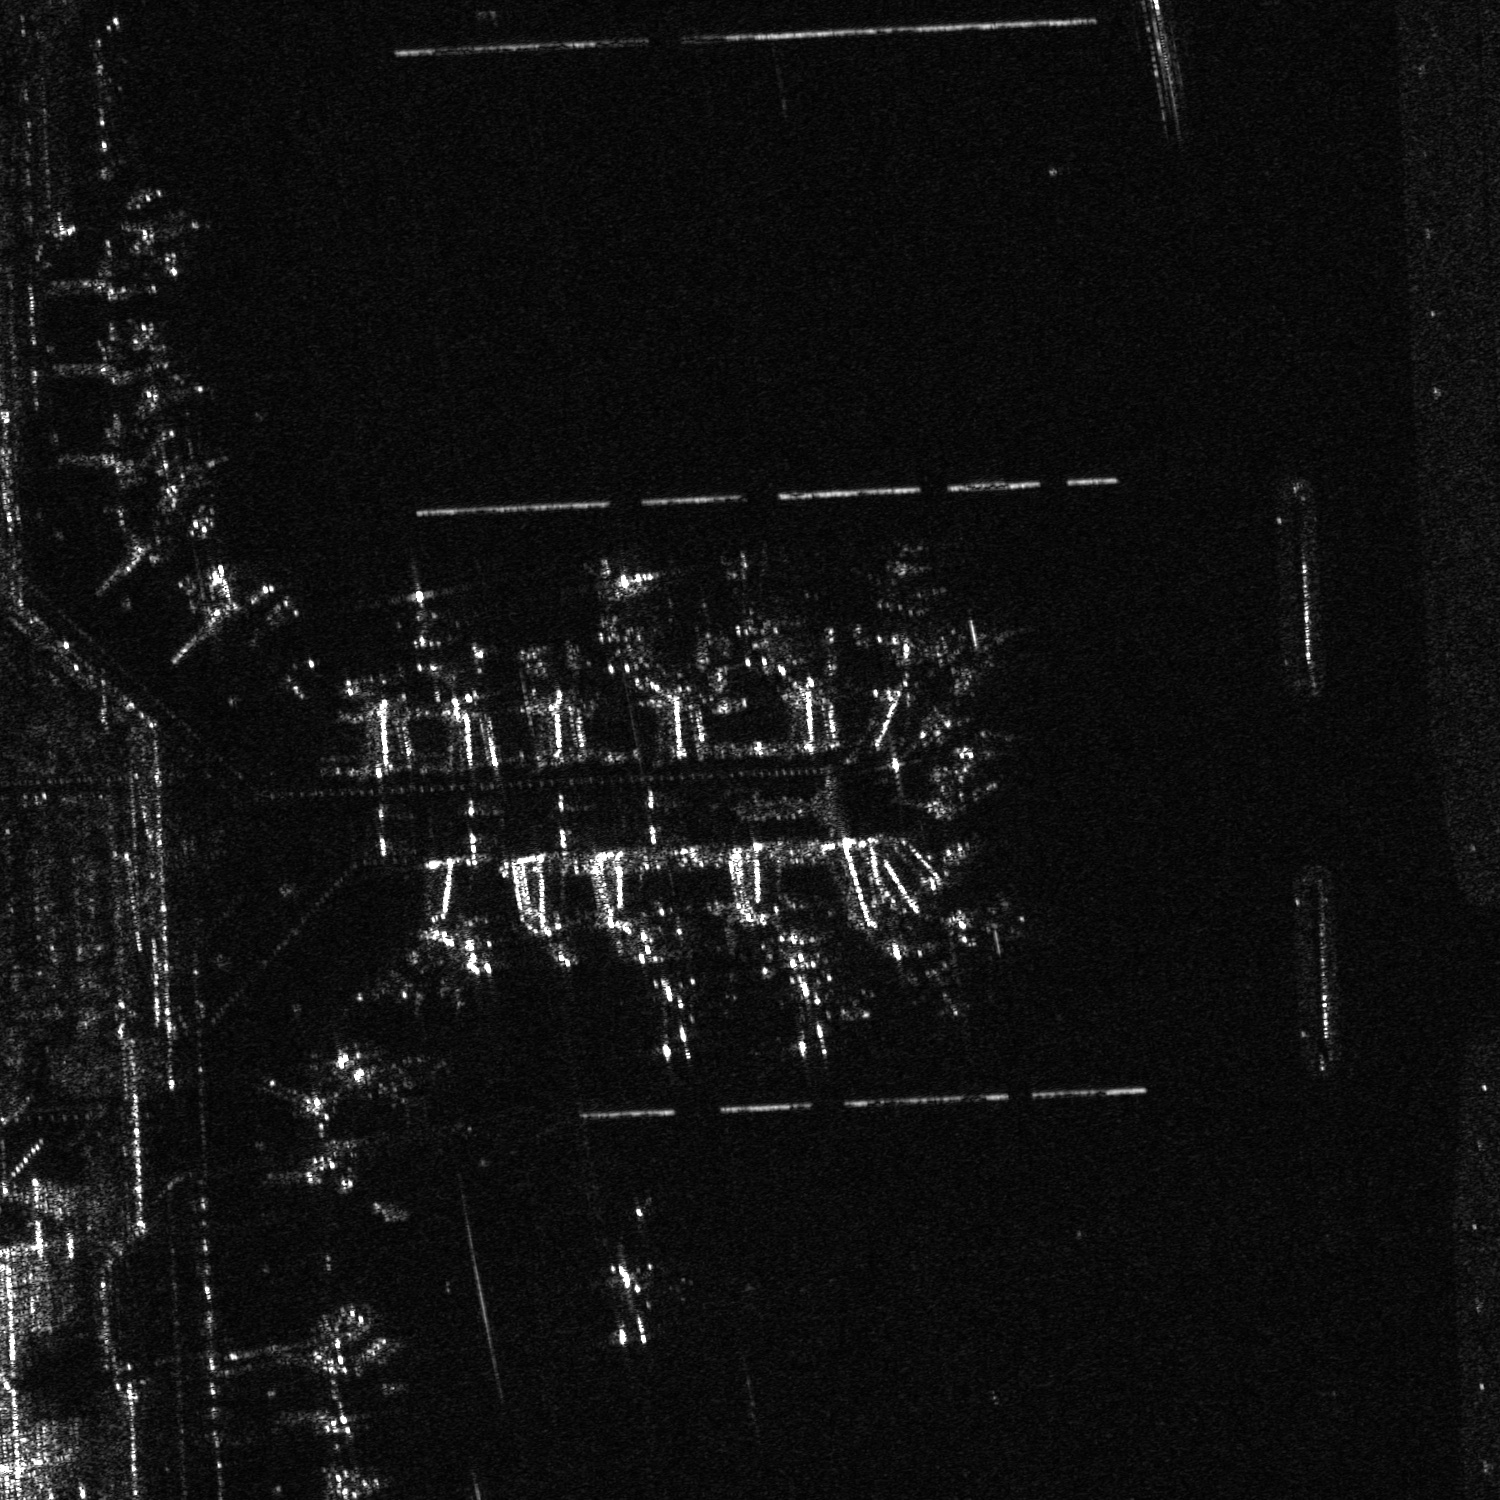A220: (401, 576, 470, 654)
A320/321: (765, 944, 848, 1062), (854, 538, 955, 620), (941, 891, 1045, 962), (718, 545, 780, 636), (582, 560, 637, 650)
Boeing737: (887, 934, 973, 1032)
Boeing787: (626, 971, 712, 1066)
other: (571, 1242, 681, 1348)
